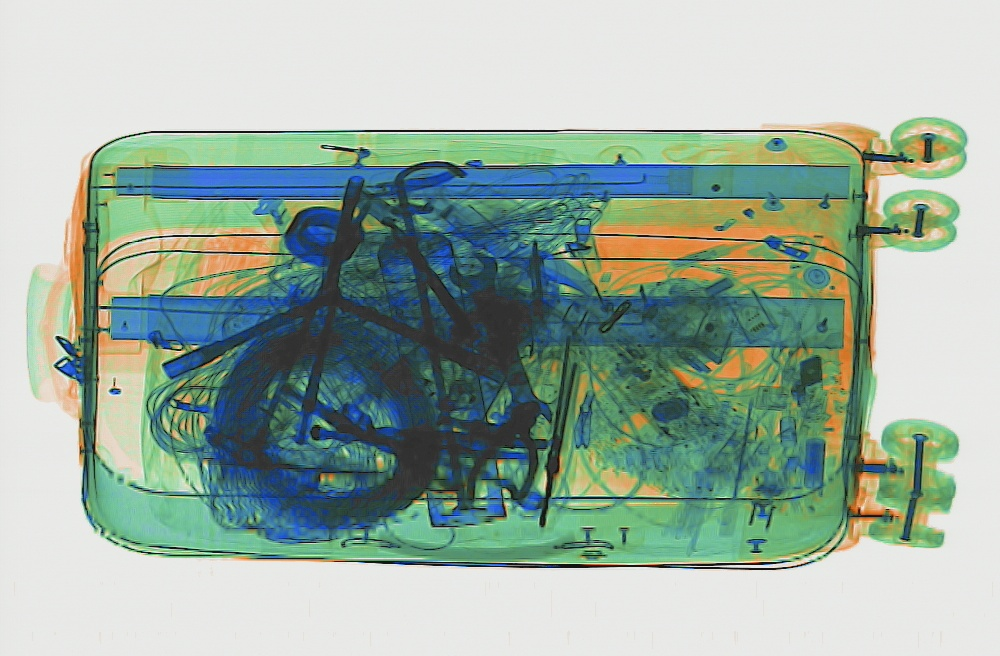scissors: (532, 331, 583, 530)
